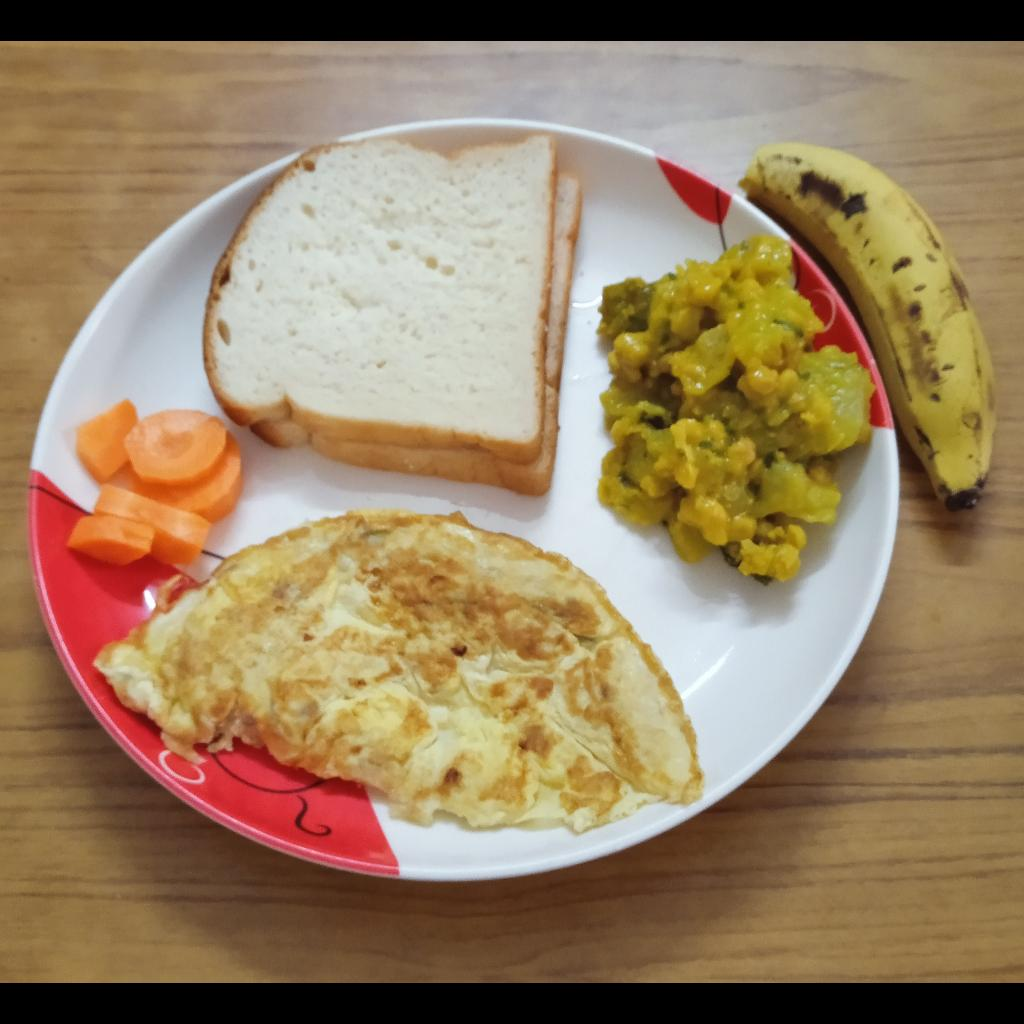banana: (744, 140, 999, 514)
bread: (204, 134, 582, 496)
carrot: (66, 397, 245, 568)
egg-poached: (93, 509, 707, 837)
lau: (597, 234, 875, 586)
